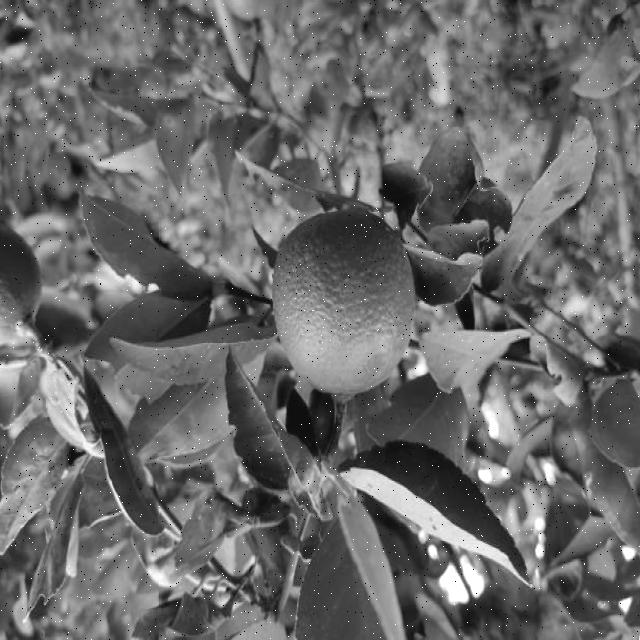Unripe: (271, 208, 414, 406)
